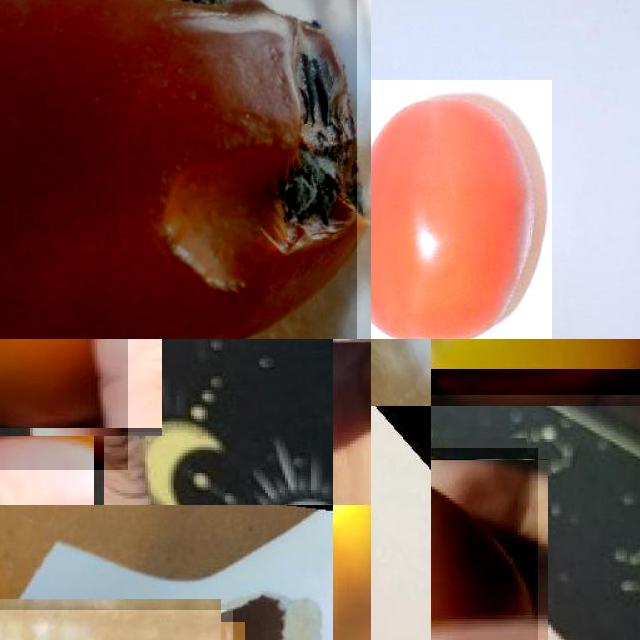1: (0, 339, 128, 470), (333, 505, 371, 640)
Fresh Tomato: (371, 80, 552, 339)
Rotten Tomato: (0, 0, 357, 339), (431, 448, 537, 640)
